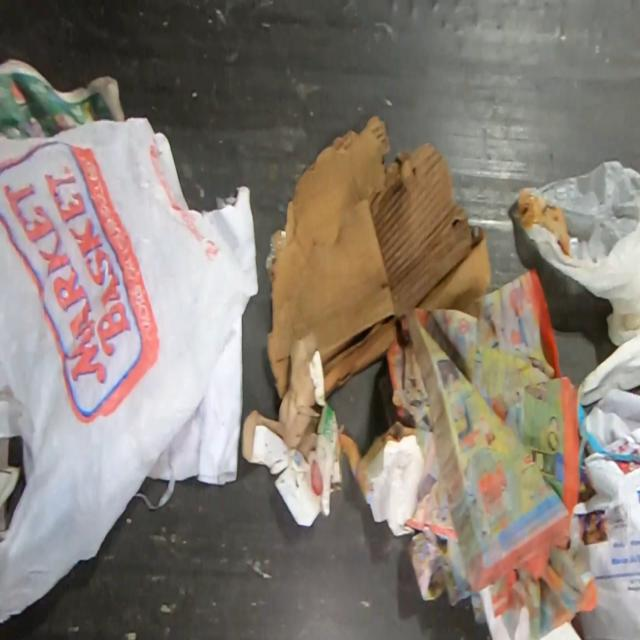cardboard: (266, 113, 493, 401), (240, 330, 344, 528)
soft_plastic: (0, 113, 252, 624), (522, 158, 640, 348), (580, 437, 639, 538)
